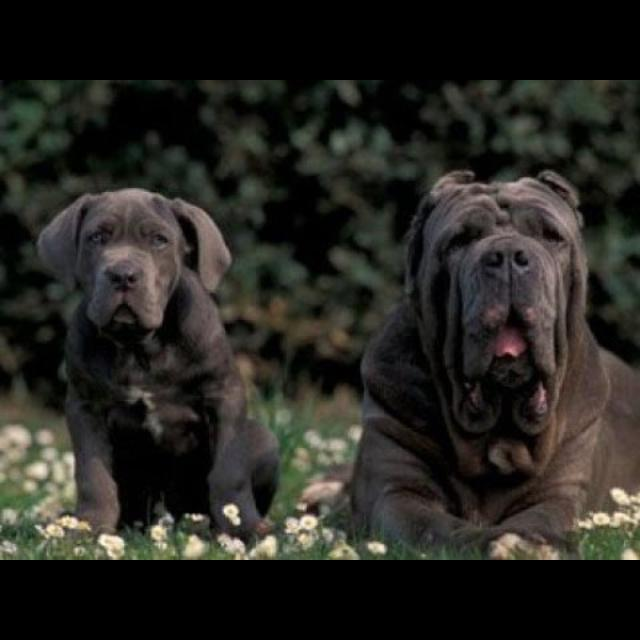mastino_napoletano: (300, 168, 640, 560), (36, 187, 282, 544)
